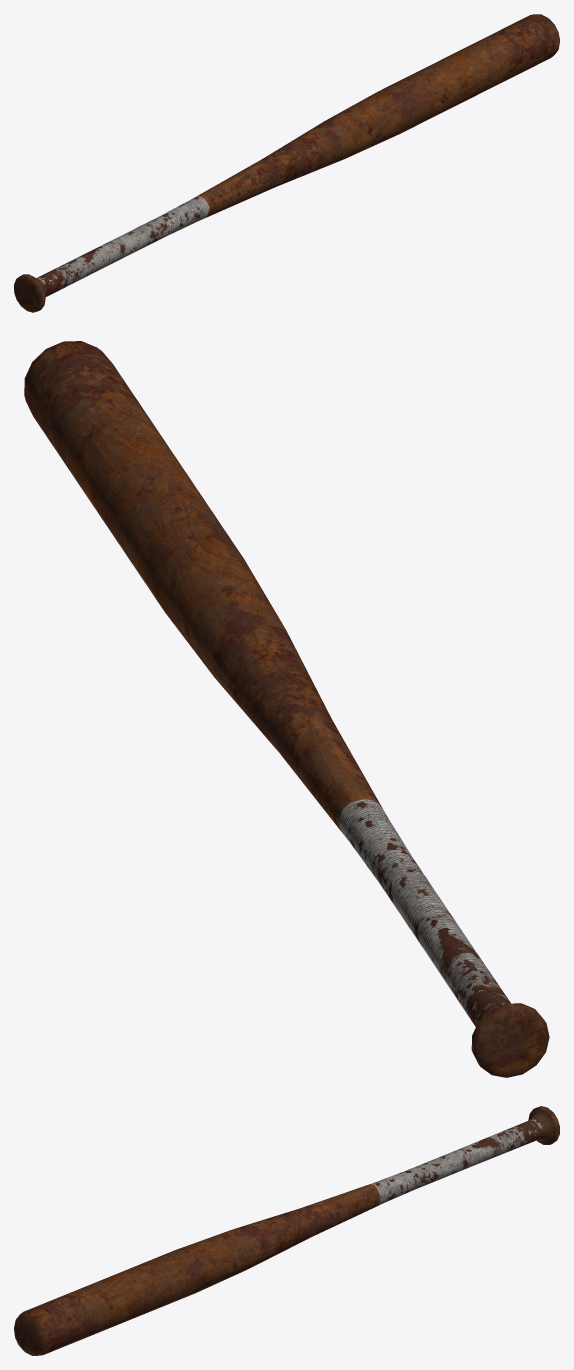
Rendered from Anim_idle_bate_objetos.0025.obj.
3 renders of one model, top to bottom at view 1: azimuth 90°, elevation 25°; view 2: azimuth 150°, elevation 25°; view 3: azimuth 270°, elevation 25°, orthographic. The views are drawn at different scales.
Parts seen in each view (by area): view 1: Bate1; view 2: Bate1; view 3: Bate1.
Part boxes in pixels (x1,y1,x2,y2): Bate1: (14,14,559,312); Bate1: (24,341,549,1077); Bate1: (14,1106,559,1355).
Bounding box in the file's own units: 4.08 × 0.4954 × 3.82.
